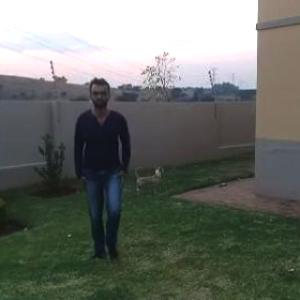follow: (78, 79, 133, 246)
